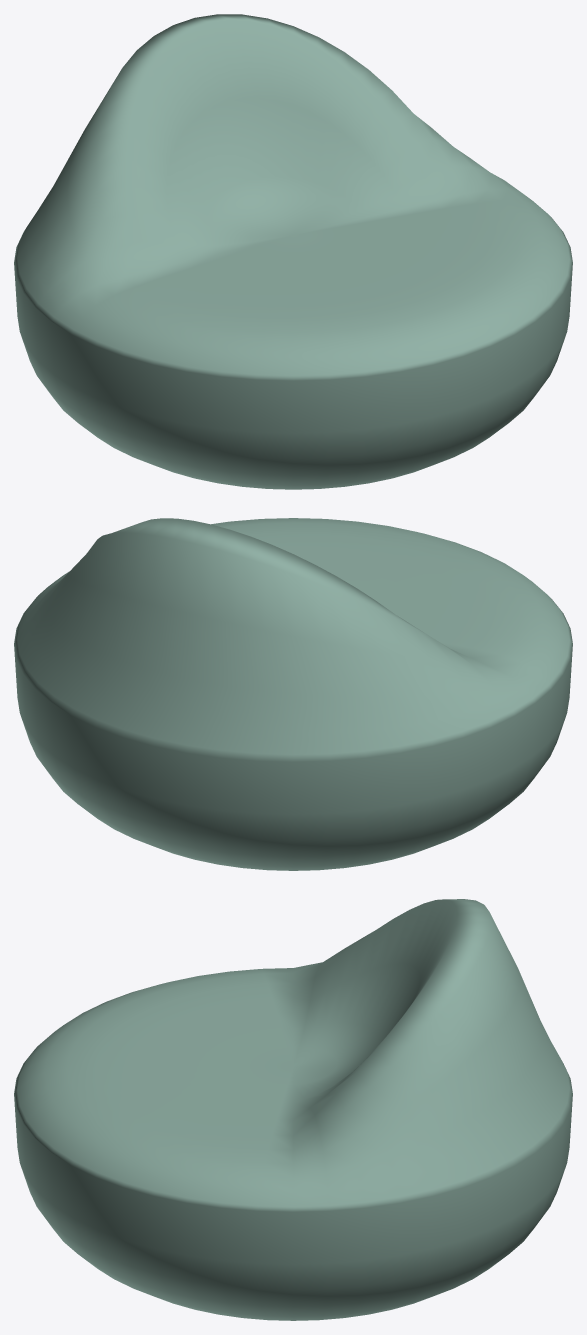
File: beanbag.glb
3 views of the same model, one above another, from view 1: azimuth 30°, elevation 25°; view 2: azimuth 150°, elevation 25°; view 3: azimuth 270°, elevation 25° (orthographic).
Parts seen in each view (by area): view 1: single-sculpted-beanbag; view 2: single-sculpted-beanbag; view 3: single-sculpted-beanbag.
Part boxes in pixels (<box>): single-sculpted-beanbag: <box>14,14,572,489</box>; single-sculpted-beanbag: <box>14,518,572,870</box>; single-sculpted-beanbag: <box>14,899,572,1320</box>.
Size of the model in its own units: 1.08 by 0.766 by 1.08.
